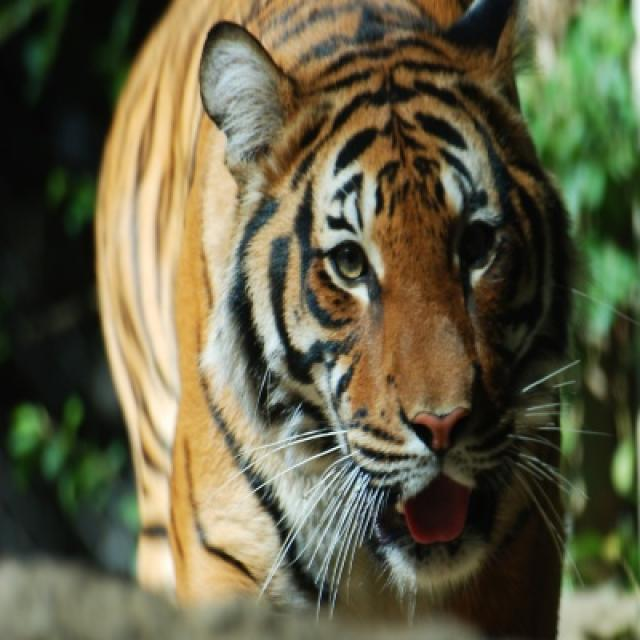Tiger: (174, 14, 575, 591)
